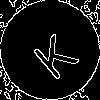K: (25, 25, 80, 82)
